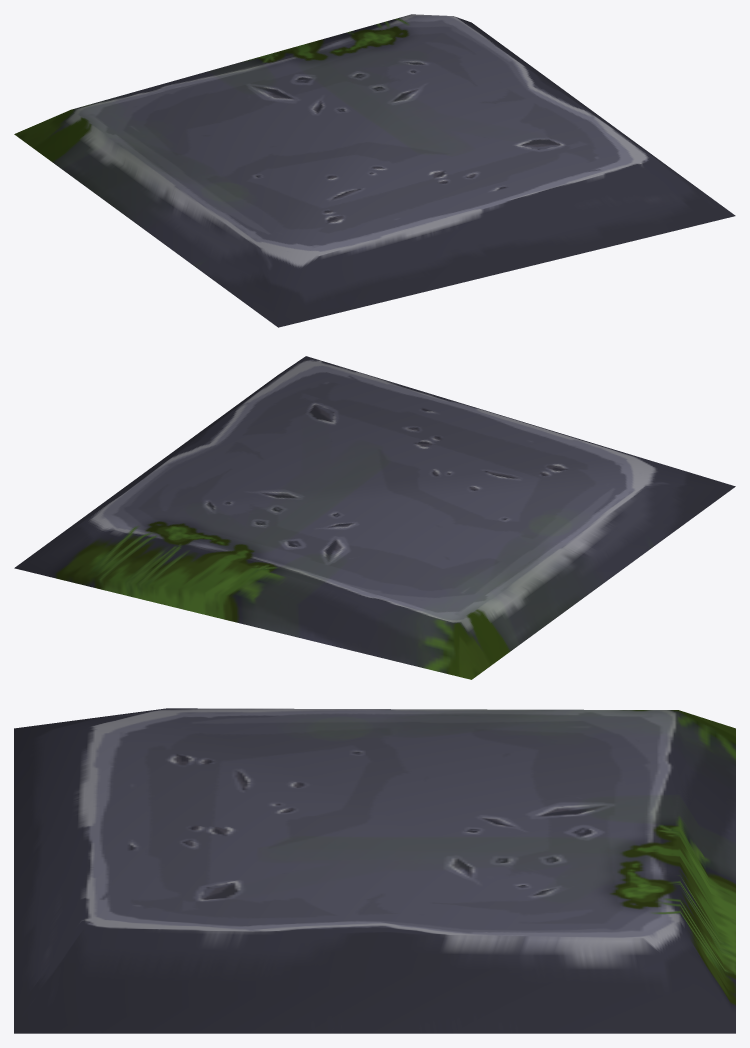
The model's file is MOD_Floor_01_O_singlestone_3.fbx.
3 views of the same model, one above another, from view 1: azimuth 30°, elevation 25°; view 2: azimuth 150°, elevation 25°; view 3: azimuth 270°, elevation 25° (orthographic). The views are drawn at different scales.
Parts seen in each view (by area): view 1: MOD_Floor_01_O_singlestone_3; view 2: MOD_Floor_01_O_singlestone_3; view 3: MOD_Floor_01_O_singlestone_3.
Boxes of the visible parts, <box> form: MOD_Floor_01_O_singlestone_3: <box>14,14,735,327</box>; MOD_Floor_01_O_singlestone_3: <box>14,356,735,679</box>; MOD_Floor_01_O_singlestone_3: <box>14,708,735,1033</box>.
Bounding box in the file's own units: 100 × 10.55 × 100.
